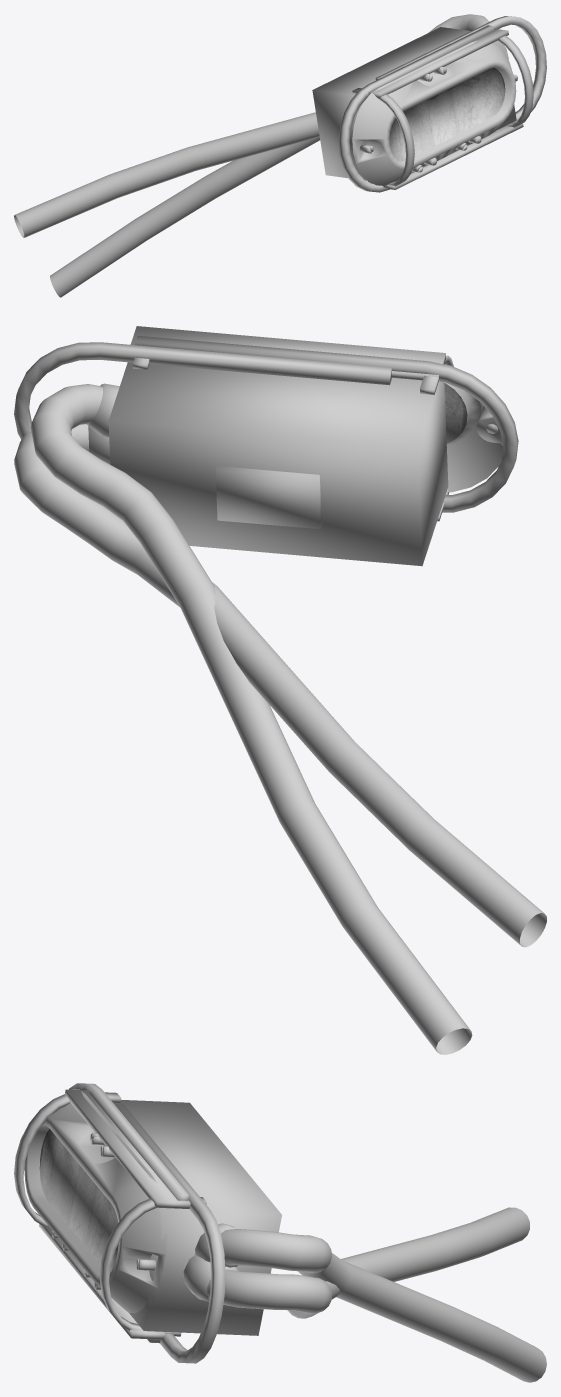
File: SM_BulletCounter_L_00.fbx
3 views of the same model, one above another, from view 1: azimuth 30°, elevation 25°; view 2: azimuth 150°, elevation 25°; view 3: azimuth 270°, elevation 25° (orthographic). The views are drawn at different scales.
Parts seen in each view (by area): view 1: SM_BulletCounter_L_00; view 2: SM_BulletCounter_L_00; view 3: SM_BulletCounter_L_00.
Part boxes in pixels (left/top/right/bottom): SM_BulletCounter_L_00: left=14, top=14, right=546, bottom=297; SM_BulletCounter_L_00: left=14, top=326, right=546, bottom=1054; SM_BulletCounter_L_00: left=14, top=1083, right=546, bottom=1382.
Bounding box in the file's own units: 634 × 399 × 471.
